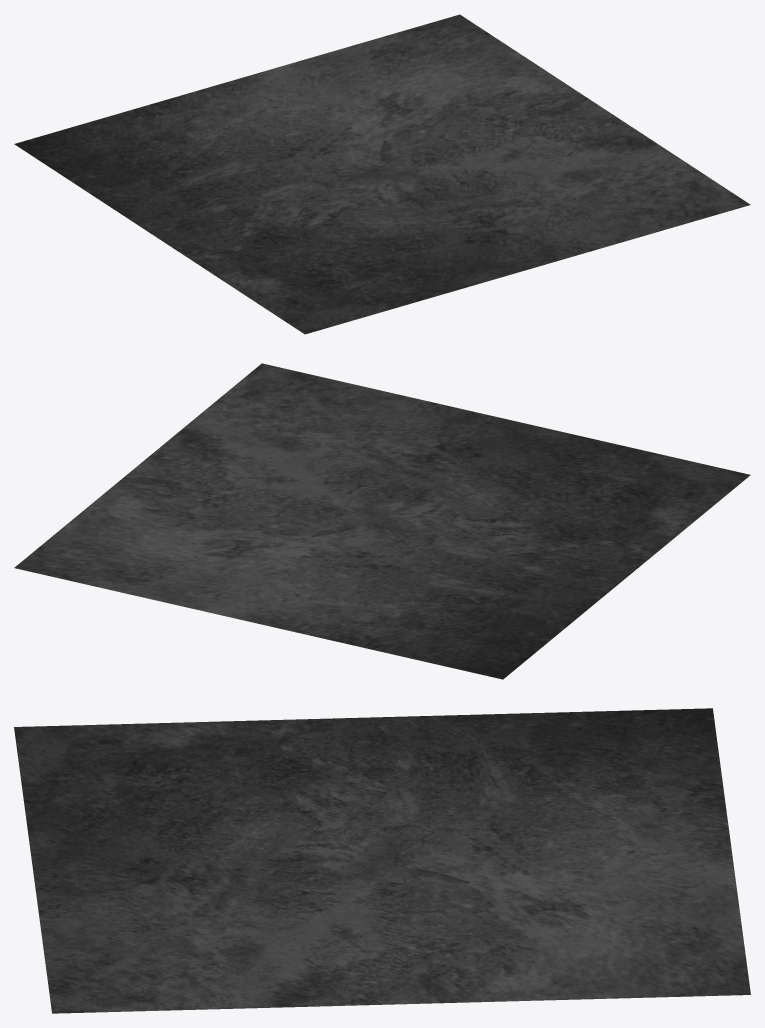
Rendered from plane.020_lev3.glb.
3 renders of one model, top to bottom at view 1: azimuth 30°, elevation 25°; view 2: azimuth 150°, elevation 25°; view 3: azimuth 270°, elevation 25°, orthographic. The views are drawn at different scales.
Visible parts, largest first — view 1: plane.020_lev3; view 2: plane.020_lev3; view 3: plane.020_lev3.
Part boxes in pixels (left/top/right/bottom): plane.020_lev3: left=14, top=14, right=750, bottom=334; plane.020_lev3: left=14, top=363, right=750, bottom=679; plane.020_lev3: left=14, top=708, right=750, bottom=1013.
Bounding box in the file's own units: 0.6221 × 0.0105 × 0.6222.
Materials: 1 (1 with a texture image).
